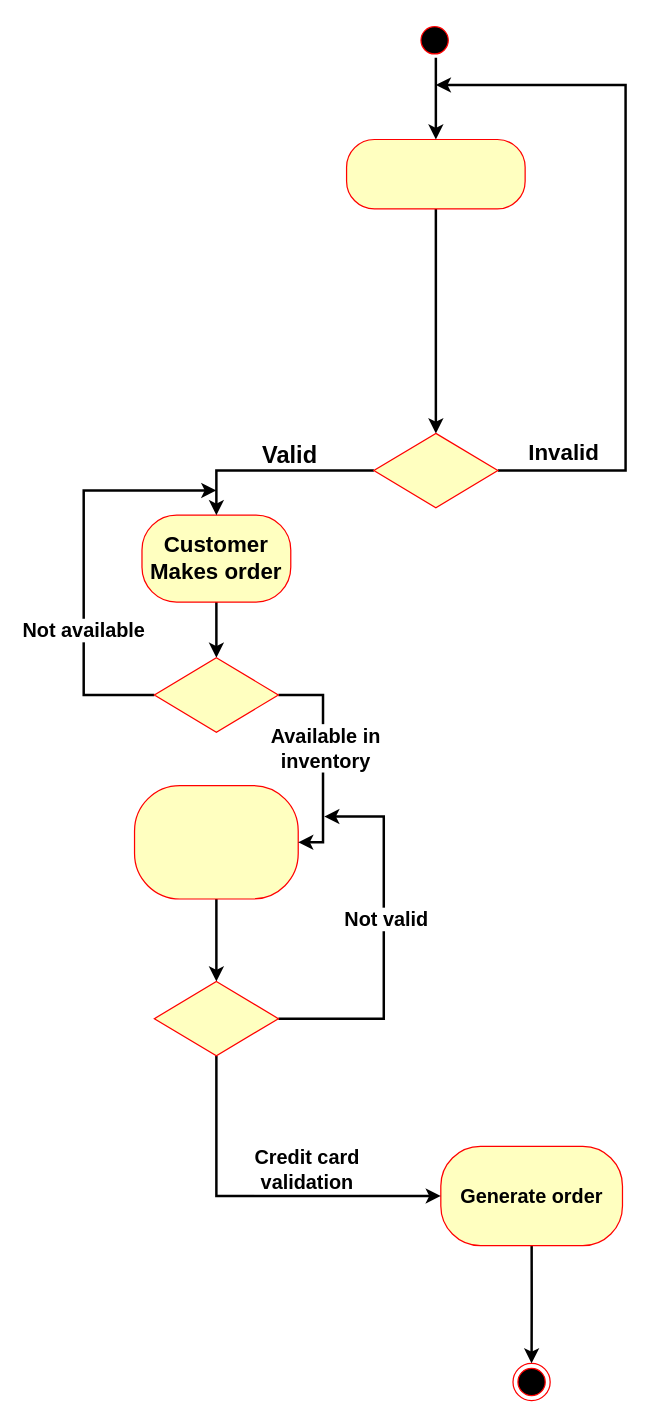
Image size: 657x1422. Some labels were removed from this diagram. The centre of each missing label's shape, as x and y in pixels:
"Calculate order subtotal & sales taxes" goes at (x=215, y=841).
"Validate customer information" goes at (x=435, y=173).
